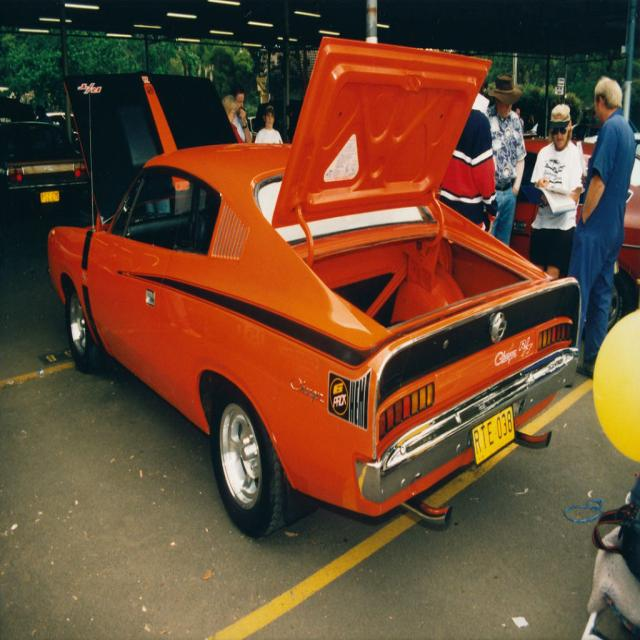car: (46, 30, 590, 540)
